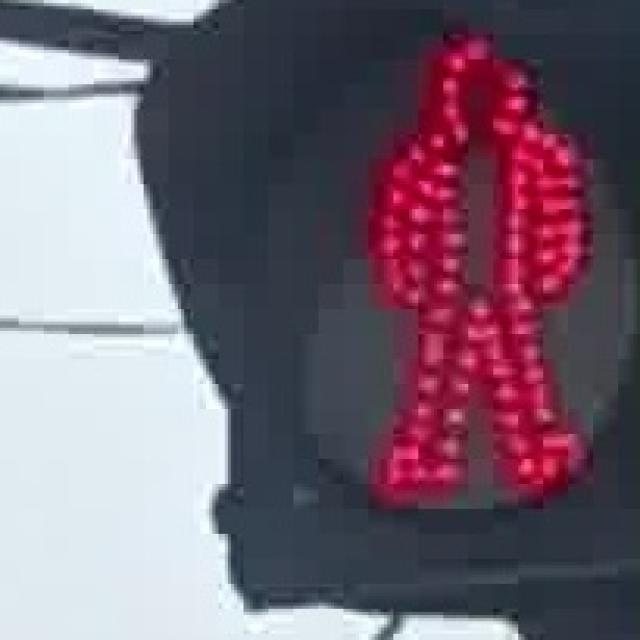red-crossing: (322, 16, 602, 518)
